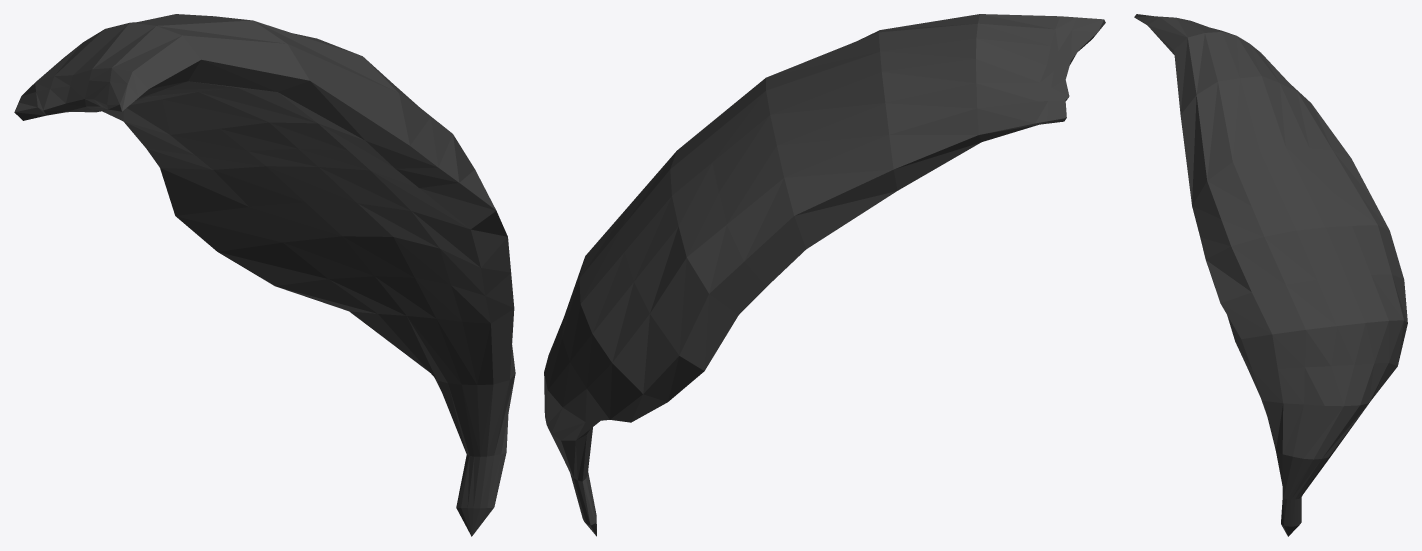
File: GluteusSuperf.glb
The picture shows the model from 3 angles, left to right: view 1: azimuth 30°, elevation 25°; view 2: azimuth 150°, elevation 25°; view 3: azimuth 270°, elevation 25°; orthographic projection. The views are drawn at different scales.
Visible parts, largest first — view 1: GluteusSuperf; view 2: GluteusSuperf; view 3: GluteusSuperf.
Boxes of the visible parts, box(x1,y1,x2,y2) form: GluteusSuperf: box(14, 14, 515, 536); GluteusSuperf: box(544, 14, 1105, 536); GluteusSuperf: box(1134, 14, 1407, 536).
Bounding box in the file's own units: 2.93 × 3.31 × 2.1.
Materials: 1 (1 with a texture image).
